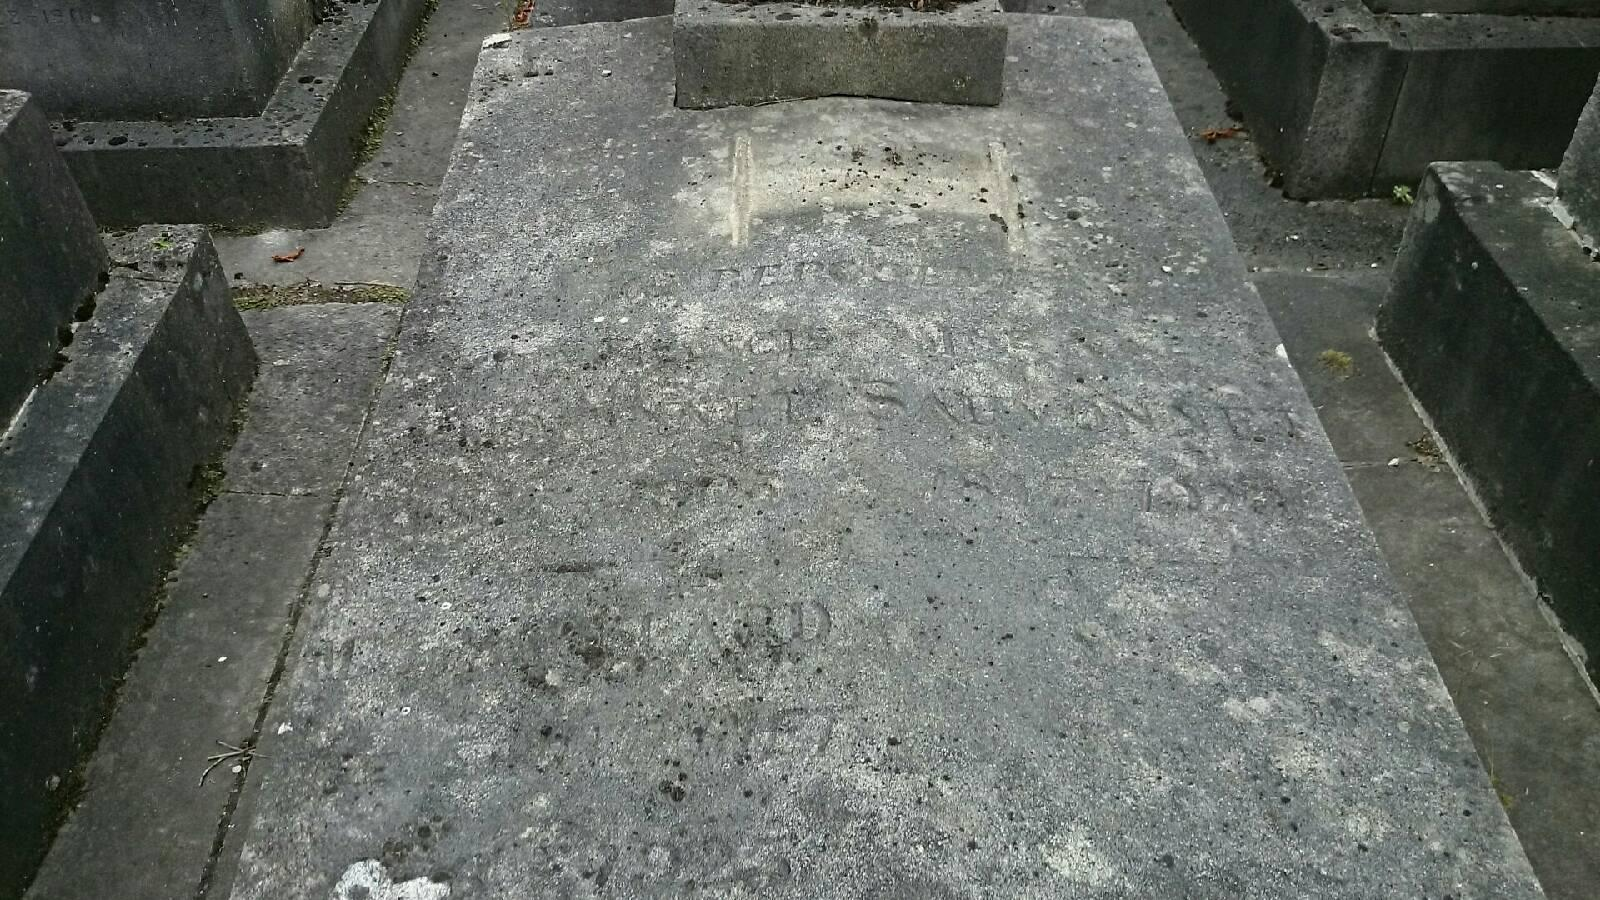vault: (215, 0, 1553, 900)
